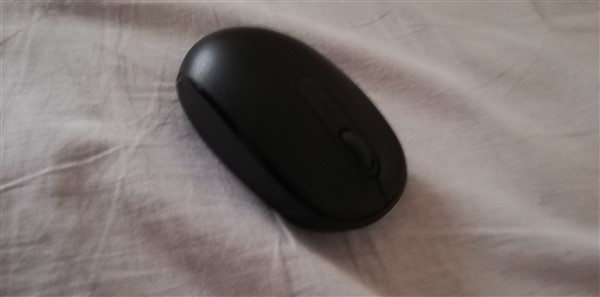mouse: (170, 16, 418, 244)
